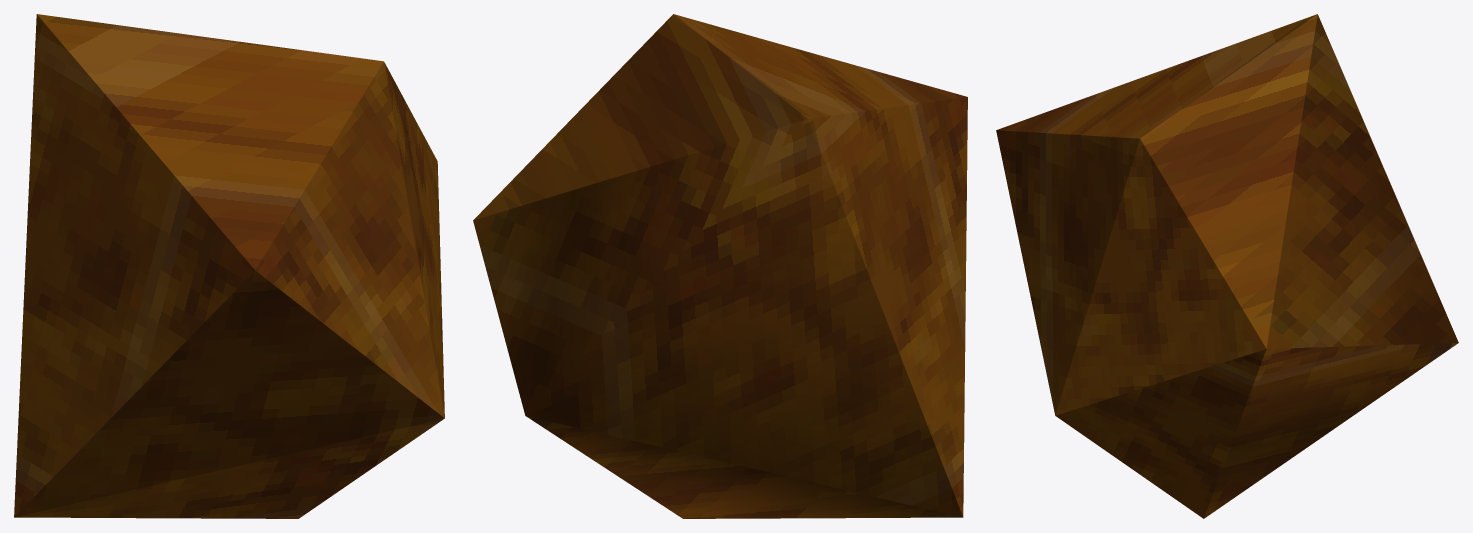
File: Model_Rocks.FBX
3 views of the same model, side by side, from view 1: azimuth 30°, elevation 25°; view 2: azimuth 150°, elevation 25°; view 3: azimuth 270°, elevation 25° (orthographic). The views are drawn at different scales.
Visible parts, largest first — view 1: Model_Rocks; view 2: Model_Rocks; view 3: Model_Rocks.
Boxes of the visible parts, x1,y1,x2,y2 form: Model_Rocks: (14,14,444,518); Model_Rocks: (473,14,967,518); Model_Rocks: (996,14,1458,518).
Size of the model in its own units: 0.806 by 0.8407 by 0.83.
